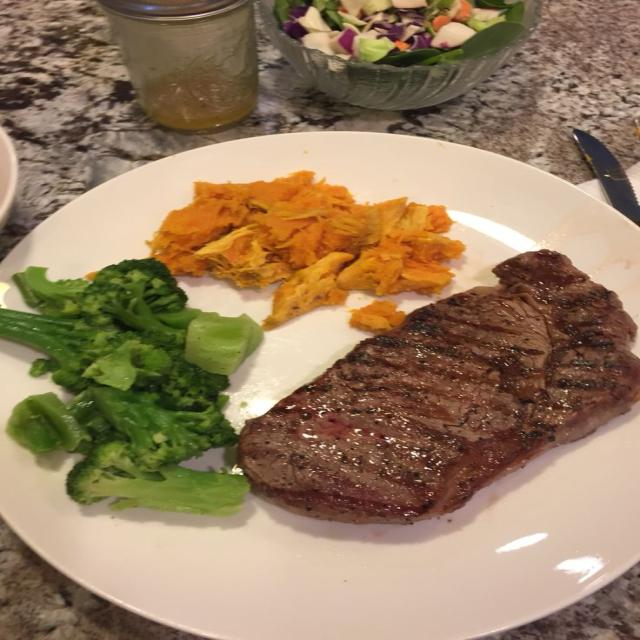beef steak: (237, 250, 639, 523)
broccoli: (0, 309, 225, 410), (66, 441, 248, 515), (93, 388, 235, 470), (81, 258, 187, 332), (7, 392, 86, 453), (186, 312, 262, 375), (13, 267, 89, 315), (67, 389, 112, 443)
carrot: (150, 171, 464, 329)
